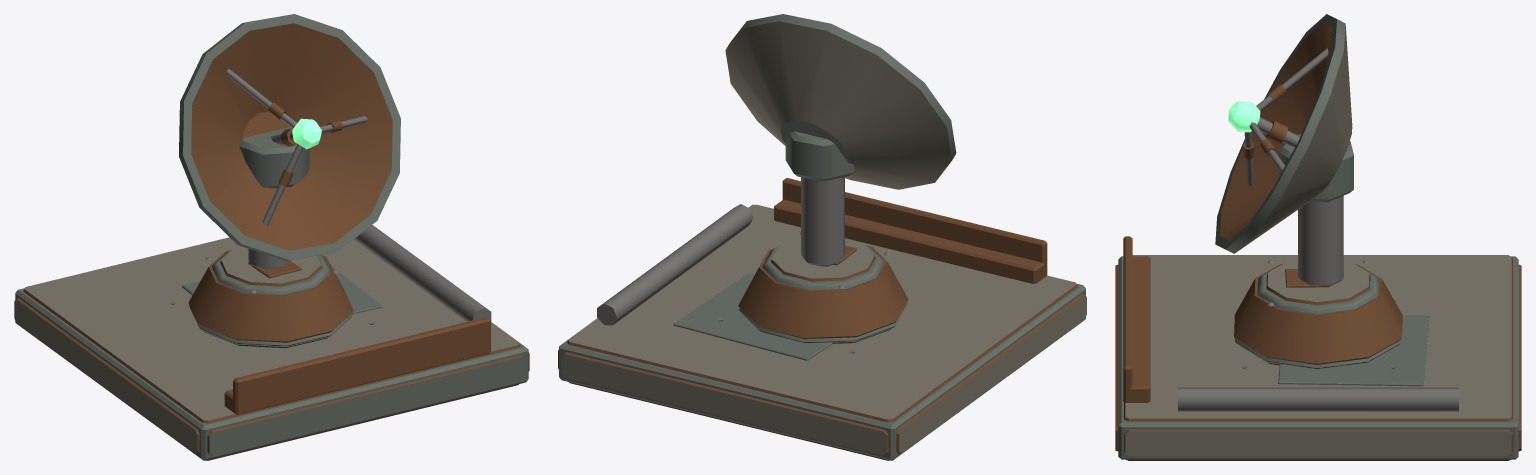
The model's file is R4X_Radar.fbx.
3 views of the same model, side by side, from view 1: azimuth 30°, elevation 25°; view 2: azimuth 150°, elevation 25°; view 3: azimuth 270°, elevation 25° (orthographic). The views are drawn at different scales.
Visible parts, largest first — view 1: R4X_Radar_Body, R4X_Radar_Dish; view 2: R4X_Radar_Body, R4X_Radar_Dish; view 3: R4X_Radar_Body, R4X_Radar_Dish.
Boxes of the visible parts, x1,y1,x2,y2 form: R4X_Radar_Body: [14, 225, 529, 460]; R4X_Radar_Dish: [179, 14, 400, 260]; R4X_Radar_Body: [558, 177, 1086, 460]; R4X_Radar_Dish: [725, 14, 956, 189]; R4X_Radar_Body: [1115, 196, 1521, 460]; R4X_Radar_Dish: [1215, 14, 1353, 253].
Bounding box in the file's own units: 0.52 × 0.4958 × 0.52.
